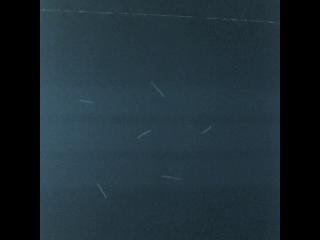crack: (43, 6, 276, 25)
scratch: (147, 78, 167, 99), (93, 179, 110, 200), (159, 173, 185, 183), (134, 126, 153, 139), (199, 123, 213, 134), (78, 98, 94, 104)
